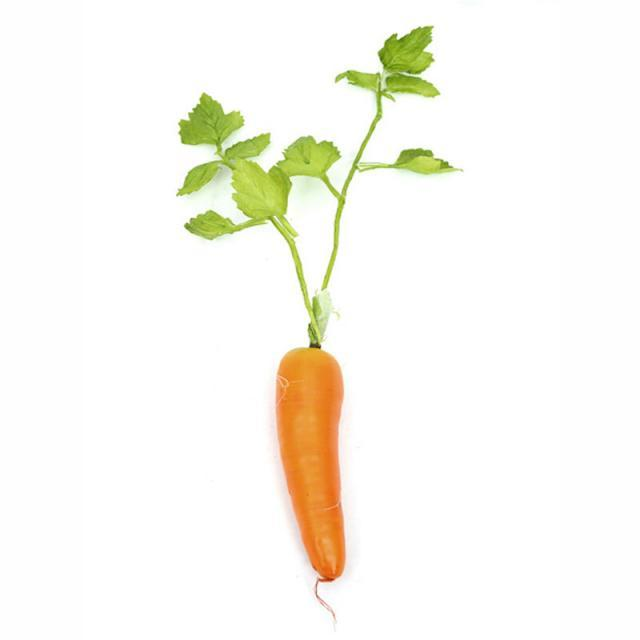Carrot: (270, 348, 362, 626)
